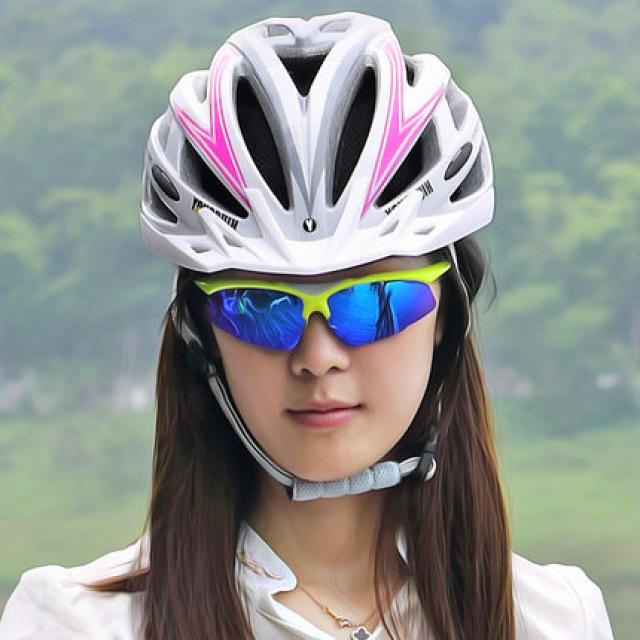illegal_helmet: (130, 4, 505, 510)
